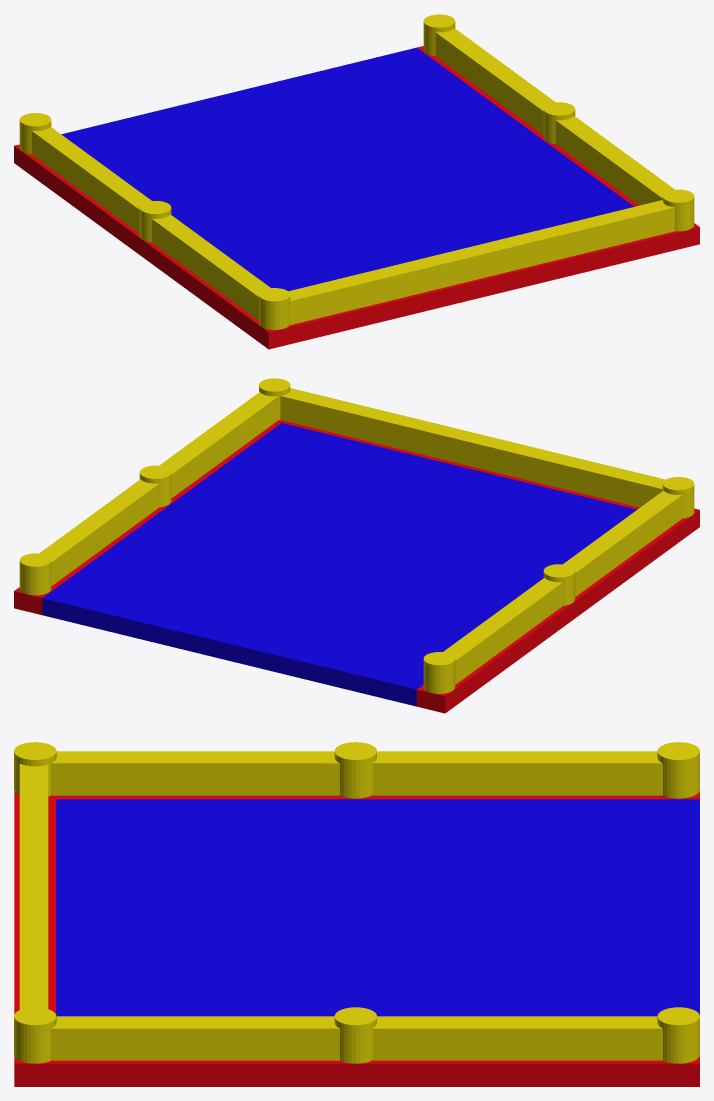
Rendered from EndPlatform.fbx.
The picture shows the model from 3 angles, top to bottom: view 1: azimuth 30°, elevation 25°; view 2: azimuth 150°, elevation 25°; view 3: azimuth 270°, elevation 25°; orthographic projection. The views are drawn at different scales.
Parts seen in each view (by area): view 1: Cube.032, Cube.004, Cube.005, Cube.052, Cube.050, Cube.002, Cube.001, Cube.003, Cube.051, Cylinder.001, Cylinder.006, Cylinder.003 (+3 smaller); view 2: Cube.032, Cube.004, Cube.052, Cube.002, Cube.050, Cube.003, Cube.001, Cube.051, Cylinder.003, Cylinder.009, Cube.005, Cylinder.008 (+3 smaller); view 3: Cube.032, Cube.051, Cube.050, Cube.002, Cube.001, Cube.003, Cube.004, Cube.052, Cube.005, Cylinder.003, Cylinder.006, Cylinder.009 (+3 smaller).
Part boxes in pixels (x1,y1,x2,y2): Cube.032: (61, 47, 633, 291); Cube.004: (289, 200, 674, 324); Cube.005: (295, 232, 671, 342); Cube.052: (14, 144, 297, 349); Cube.050: (31, 126, 151, 233); Cube.002: (435, 28, 555, 134); Cube.001: (151, 214, 270, 320); Cube.003: (555, 116, 674, 205); Cube.051: (417, 46, 699, 250); Cylinder.001: (259, 288, 290, 329); Cylinder.006: (662, 189, 694, 231); Cylinder.003: (423, 14, 455, 56); Cube.032: (42, 423, 636, 706); Cube.004: (280, 388, 665, 507); Cube.052: (416, 508, 699, 713); Cube.002: (39, 479, 158, 585); Cube.050: (443, 578, 562, 684); Cube.003: (159, 392, 278, 498); Cube.001: (563, 490, 682, 596); Cube.051: (14, 420, 283, 614); Cylinder.003: (19, 553, 51, 595); Cylinder.009: (423, 652, 455, 693); Cube.005: (282, 421, 639, 509); Cylinder.008: (543, 564, 575, 605); Cube.032: (56, 799, 699, 1016); Cube.051: (14, 1056, 699, 1086); Cube.050: (373, 751, 662, 795); Cube.002: (373, 1016, 662, 1060); Cube.001: (51, 751, 339, 795); Cube.003: (51, 1016, 339, 1060); Cube.004: (19, 764, 48, 1009); Cube.052: (14, 790, 699, 799); Cube.005: (14, 799, 55, 1013); Cylinder.003: (657, 1007, 699, 1063); Cylinder.006: (14, 1007, 56, 1063); Cylinder.009: (657, 742, 699, 798).
Bounding box in the file's own units: 3152 × 320 × 3227.
